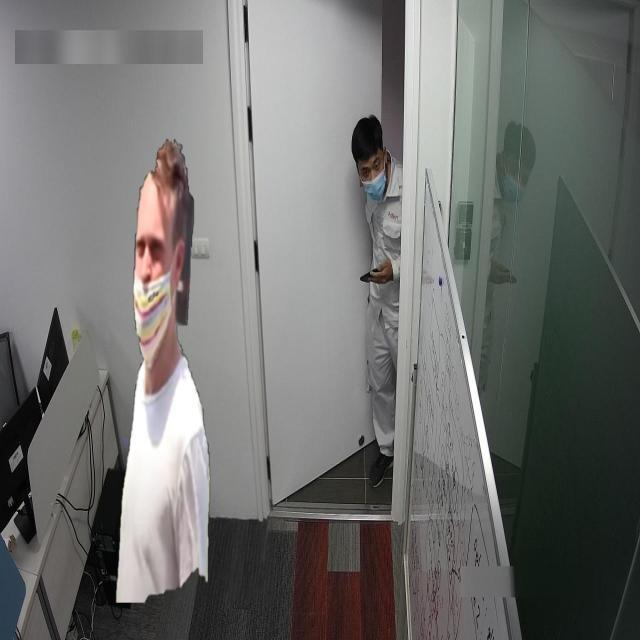hairnet: (132, 228, 174, 368)
